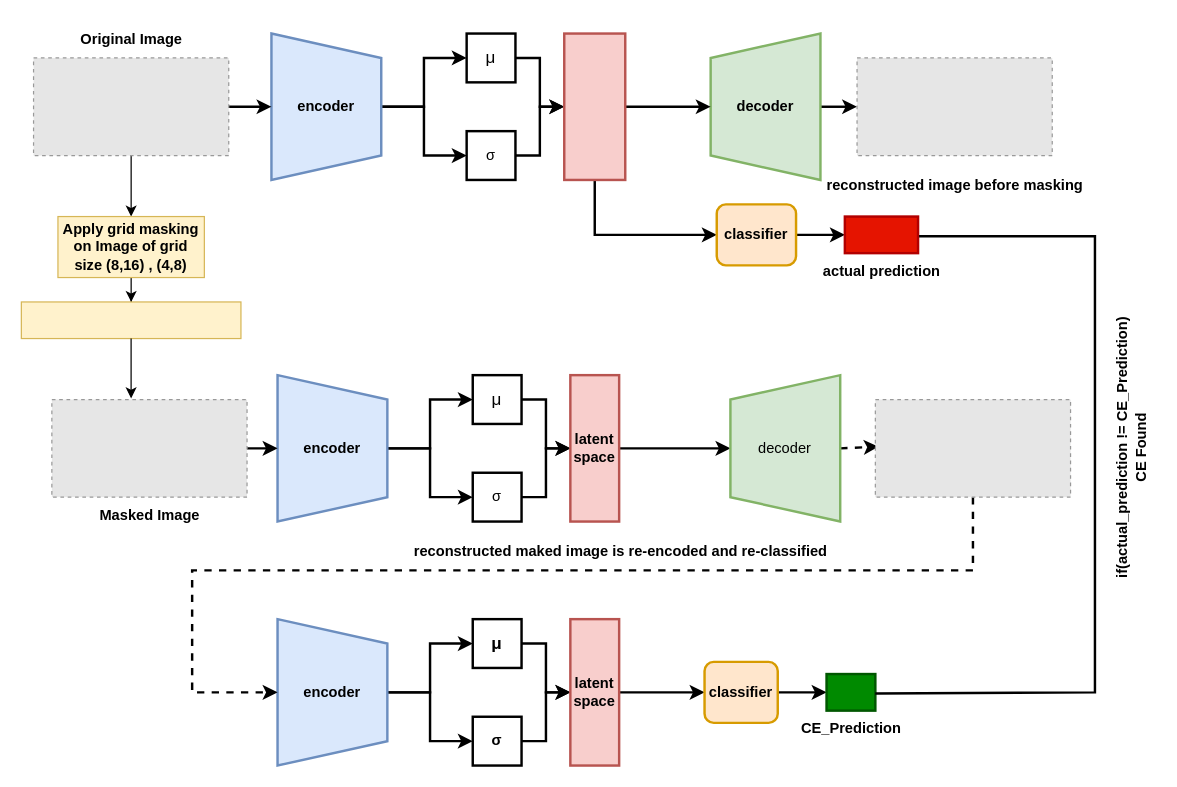
The diagram is 1177 pixels wide and 787 high, and some of its shapes have lost their labels. Grey dashed boxes stand in for pictures. The box of each missing label's shape, as (x1, y1, x2, y2) in pixels:
GO: (825, 672, 876, 711)
latent space of 128 features: (562, 32, 626, 181)
set the pixel values to zero in the bounding box: (20, 301, 241, 339)
STOP: (843, 215, 919, 254)
